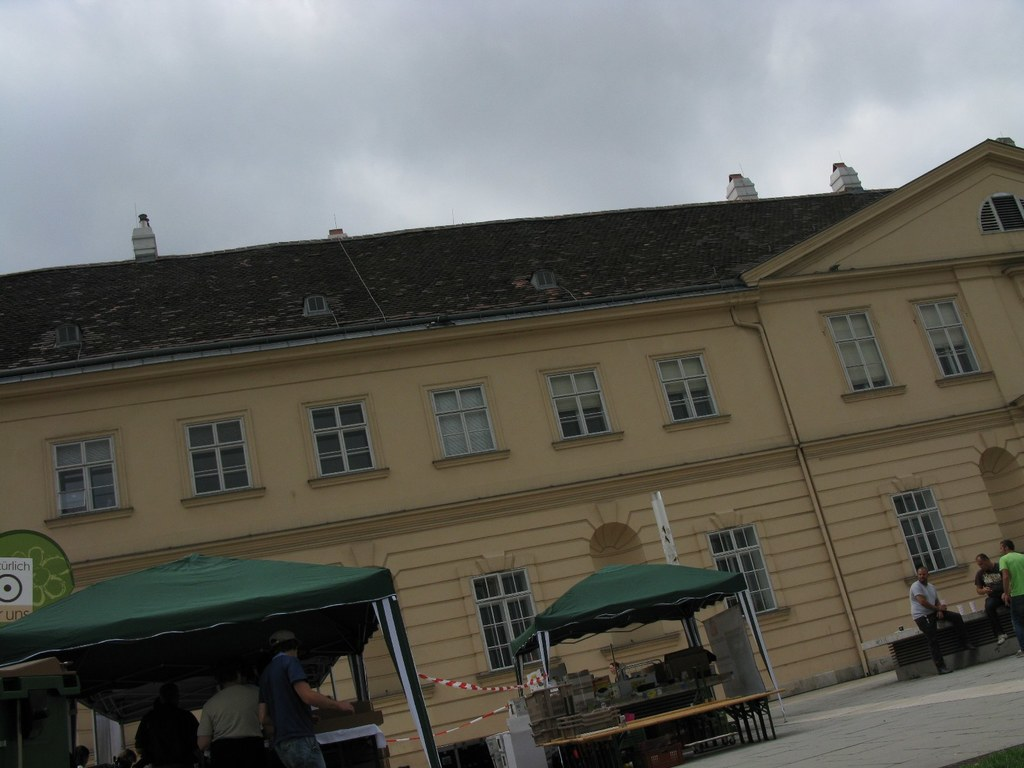Human_hand: (336, 700, 352, 716), (1002, 592, 1011, 608), (936, 612, 947, 620), (940, 602, 948, 612), (984, 587, 991, 596)
